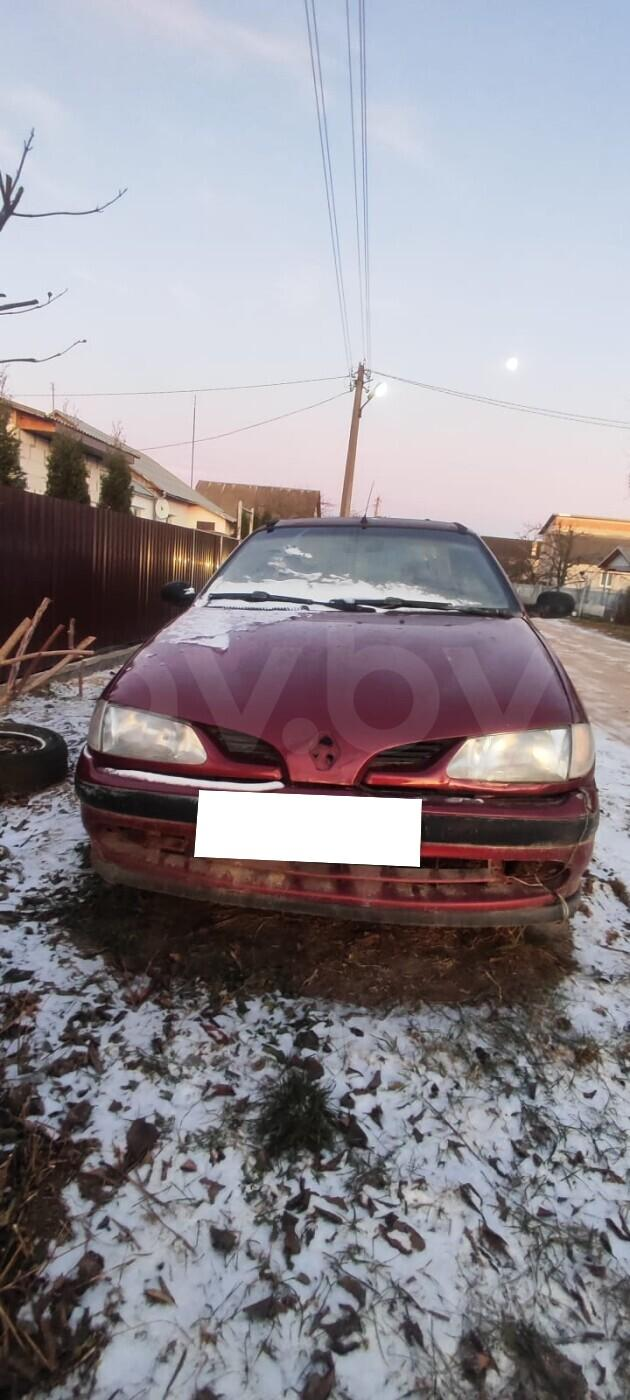Megane_1995-1999: (86, 506, 596, 966)
